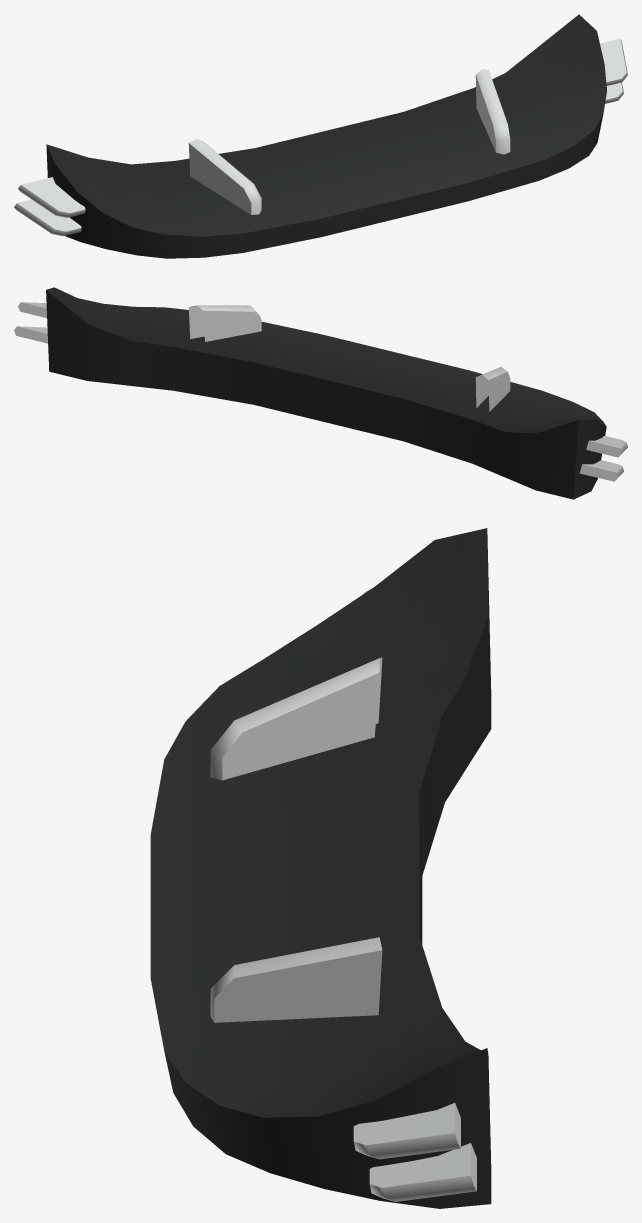
Rendered from Car_03_FrontBumper_Cool.fbx.
3 views of the same model, one above another, from view 1: azimuth 30°, elevation 25°; view 2: azimuth 150°, elevation 25°; view 3: azimuth 270°, elevation 25° (orthographic). The views are drawn at different scales.
Parts seen in each view (by area): view 1: Car_03_FrontBumper_Cool; view 2: Car_03_FrontBumper_Cool; view 3: Car_03_FrontBumper_Cool.
Part boxes in pixels (x1,y1,x2,y2): Car_03_FrontBumper_Cool: (14, 14, 627, 258); Car_03_FrontBumper_Cool: (14, 287, 627, 499); Car_03_FrontBumper_Cool: (150, 528, 491, 1208).
Size of the model in its own units: 246 by 59.96 by 31.14.
